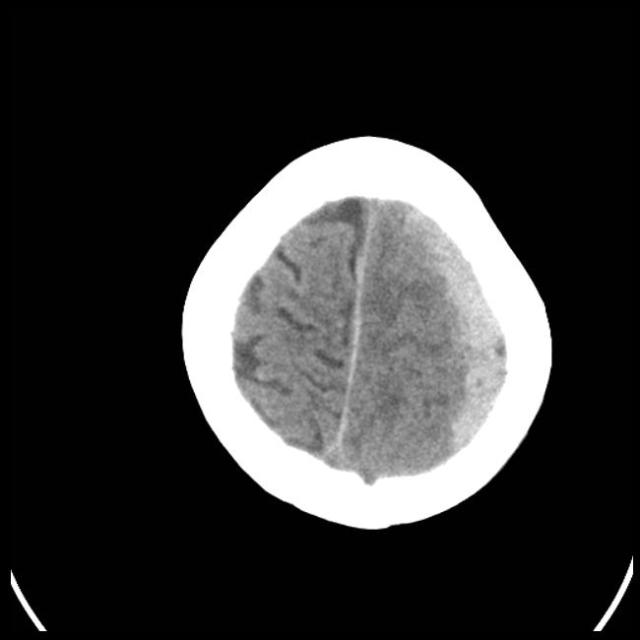lesion: (178, 131, 556, 533)
